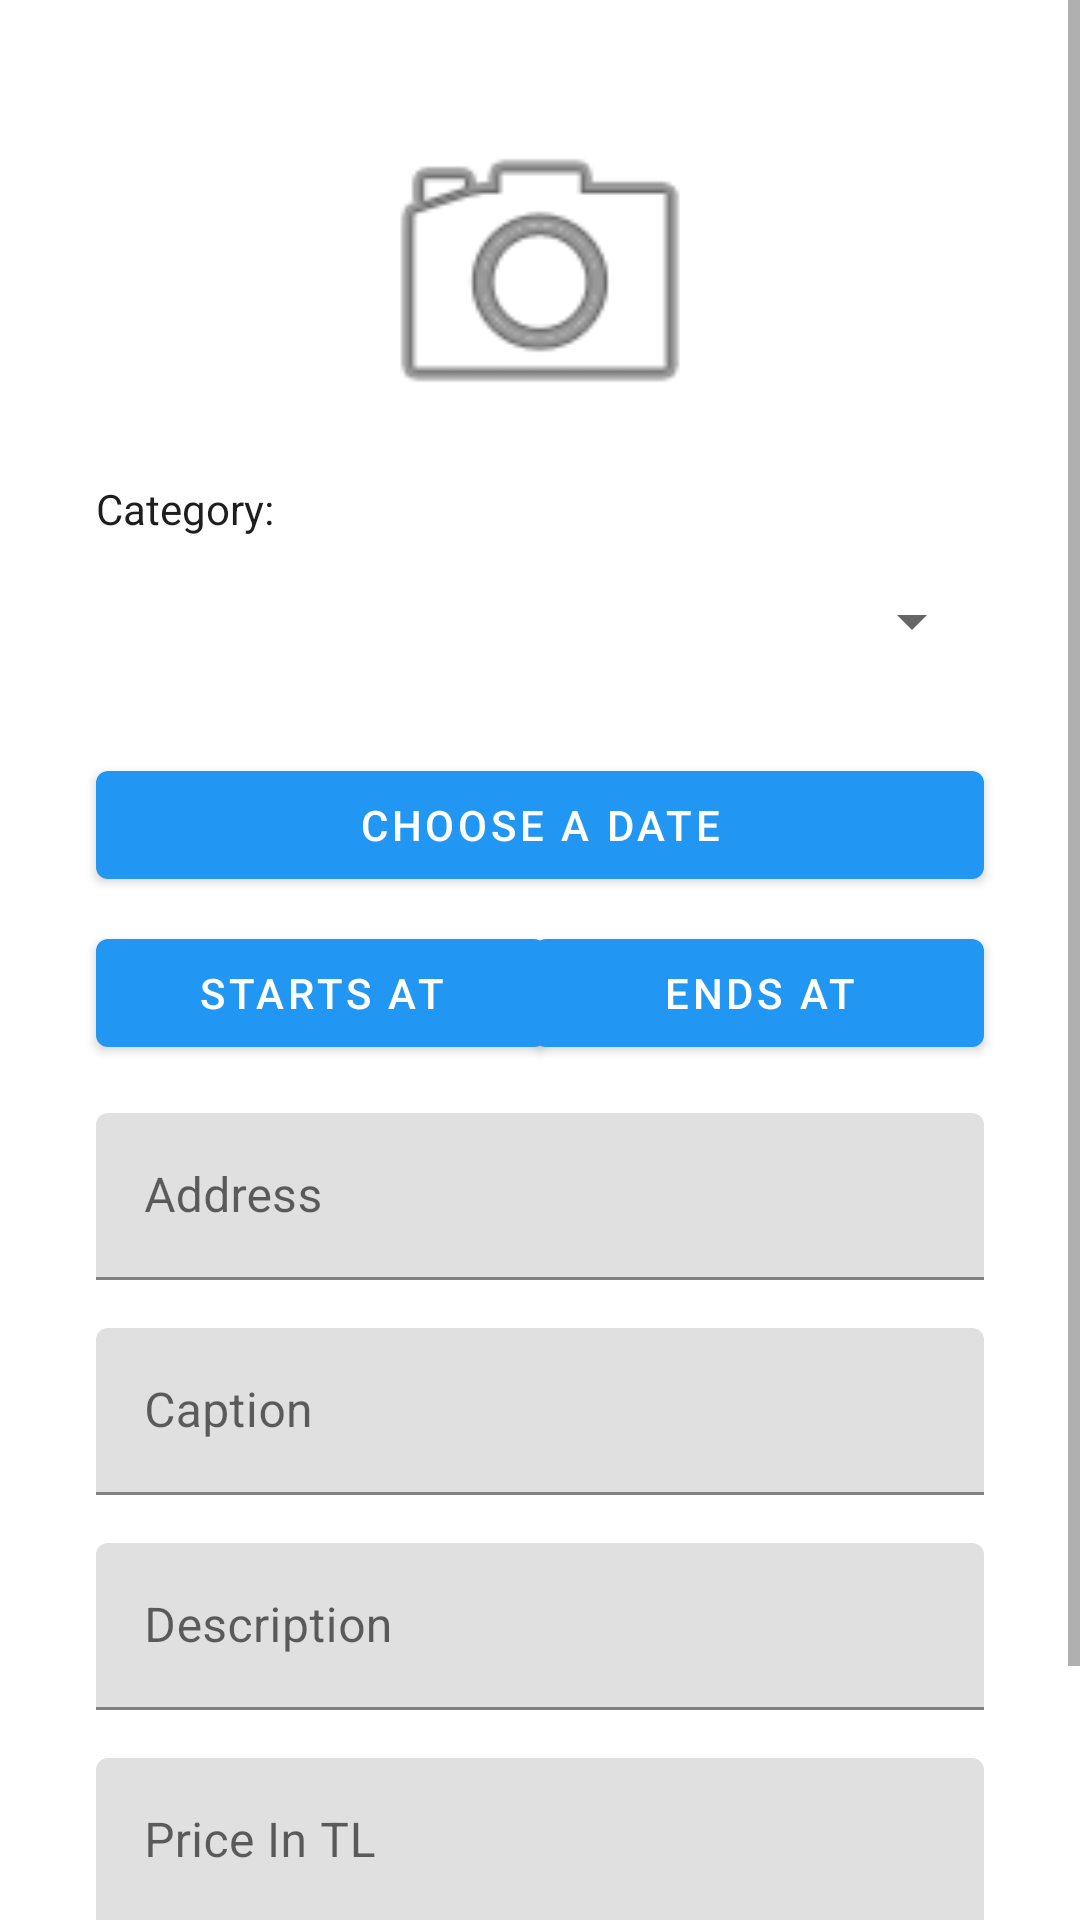

Where icons sit on this 1080x1920 app screen, as (x1, y1, x2, y2):
camera: (401, 159, 679, 381)
